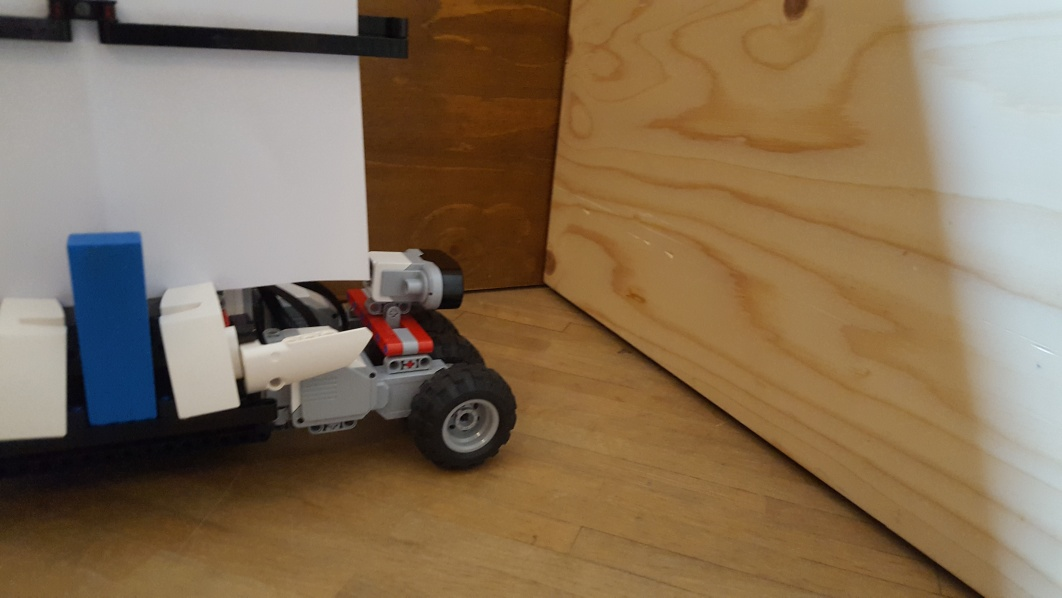beam: (60, 228, 162, 427)
